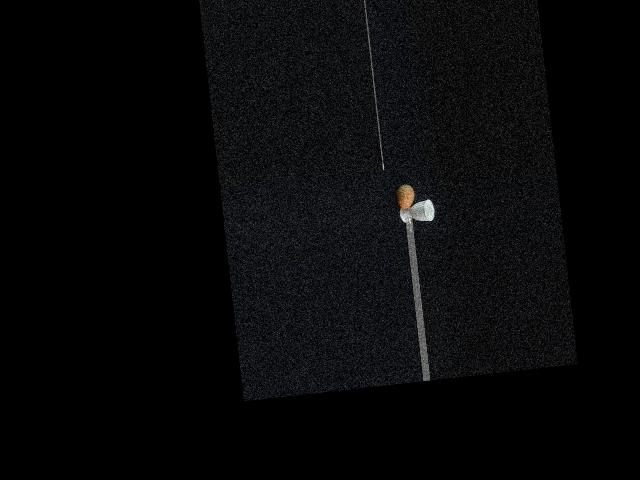egg: (395, 184, 415, 210)
